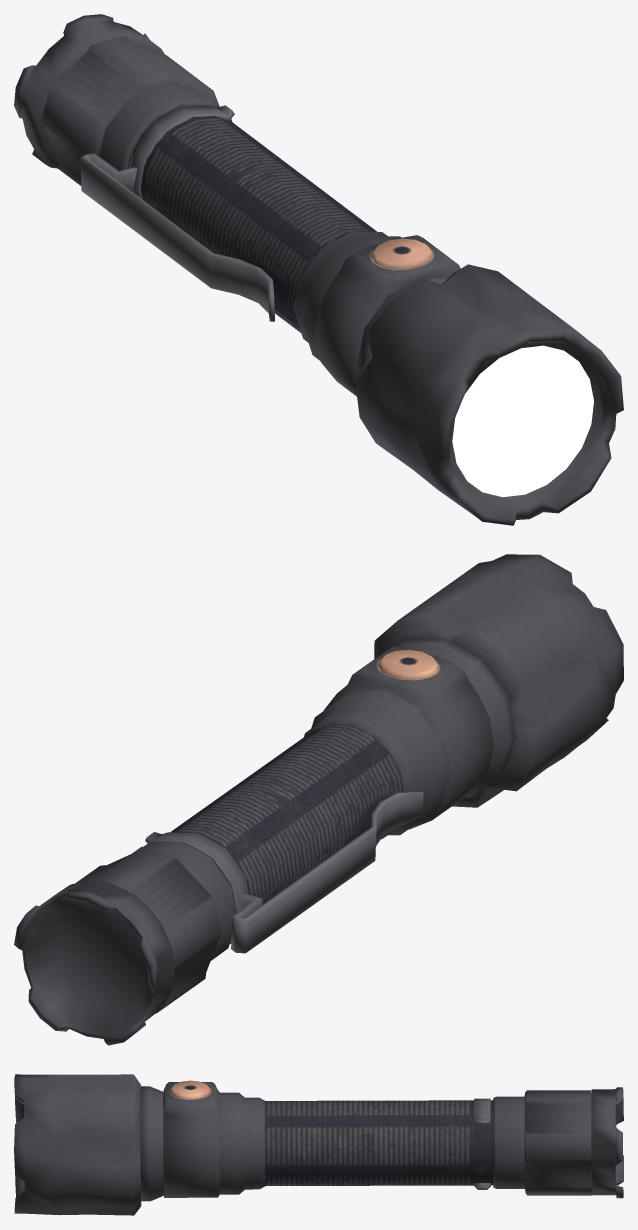
Rendered from flashlight.glb.
The picture shows the model from 3 angles, top to bottom: view 1: azimuth 30°, elevation 25°; view 2: azimuth 150°, elevation 25°; view 3: azimuth 270°, elevation 25°; orthographic projection. The views are drawn at different scales.
Visible parts, largest first — view 1: Flashlight; view 2: Flashlight; view 3: Flashlight.
Boxes of the visible parts, x1,y1,x2,y2 form: Flashlight: [14, 14, 623, 525]; Flashlight: [14, 554, 623, 1045]; Flashlight: [14, 1074, 623, 1215].
Bounding box in the file's own units: 0.2335 × 0.2338 × 1.
1 material, 1 textured.
